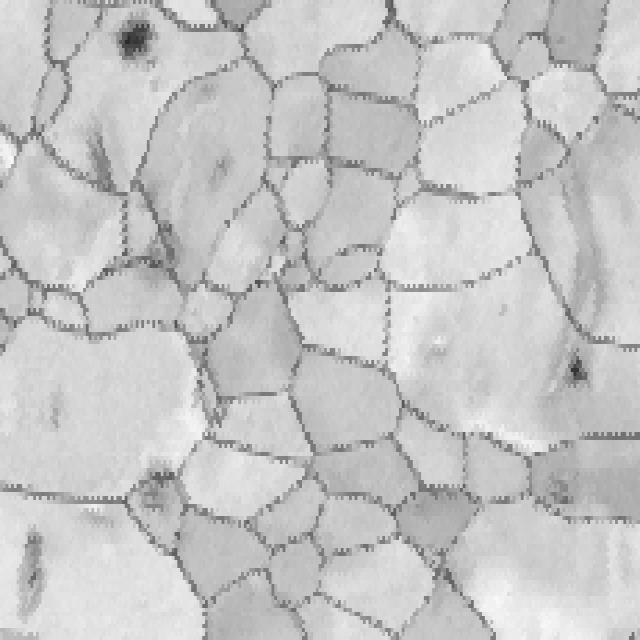good_void: (12, 516, 55, 627), (108, 10, 168, 85), (142, 196, 187, 291), (193, 140, 241, 206), (85, 130, 125, 205), (183, 332, 222, 408), (140, 447, 181, 518), (537, 462, 577, 515), (44, 381, 72, 436), (558, 352, 595, 387)
